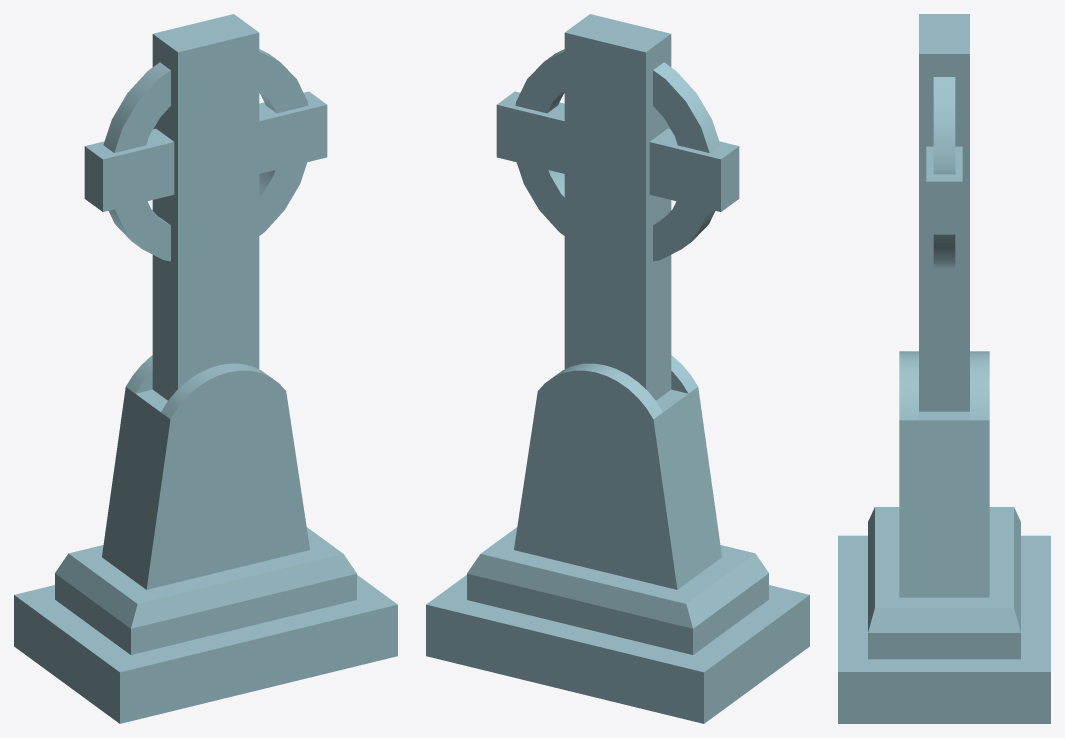
File: gravestoneCrossLarge.dae
The picture shows the model from 3 angles, left to right: view 1: azimuth 30°, elevation 25°; view 2: azimuth 150°, elevation 25°; view 3: azimuth 270°, elevation 25°; orthographic projection.
Visible parts, largest first — view 1: gravestoneCrossLarge; view 2: gravestoneCrossLarge; view 3: gravestoneCrossLarge.
Boxes of the visible parts, bbox=[...] form: gravestoneCrossLarge: bbox=[14, 14, 397, 723]; gravestoneCrossLarge: bbox=[426, 14, 809, 723]; gravestoneCrossLarge: bbox=[838, 14, 1050, 723].
Size of the model in its own units: 0.4415 by 0.9383 by 0.2913.
